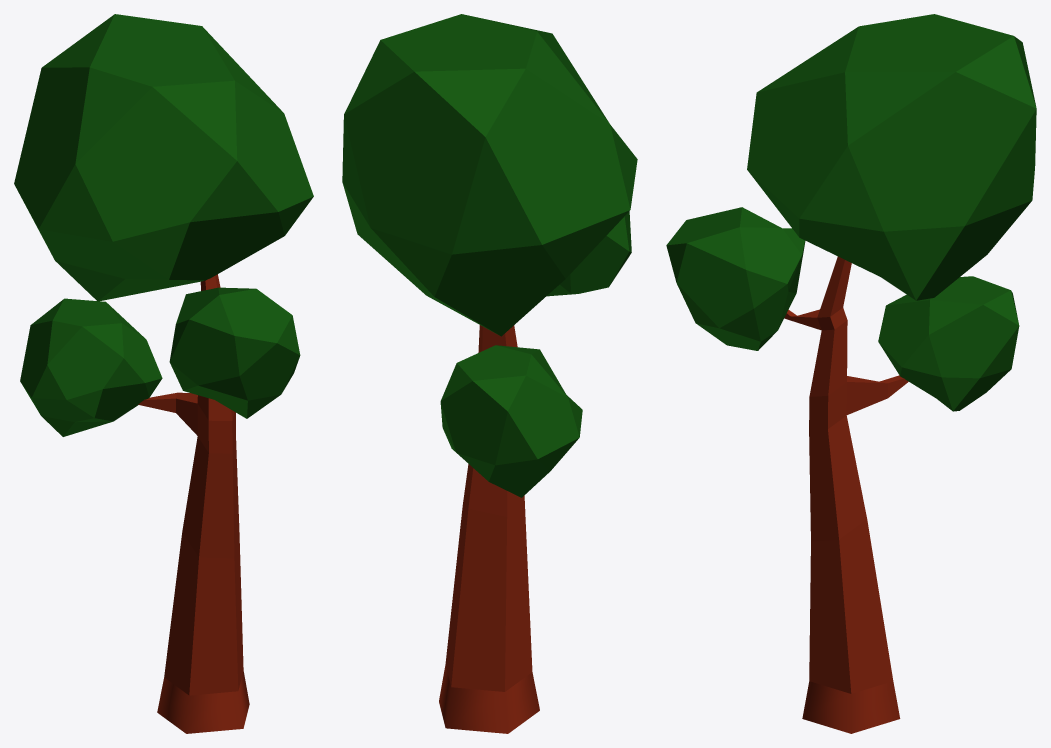
The model's file is Tree3.FBX.
3 renders of one model, left to right at view 1: azimuth 30°, elevation 25°; view 2: azimuth 150°, elevation 25°; view 3: azimuth 270°, elevation 25°, orthographic. The views are drawn at different scales.
Visible parts, largest first — view 1: Hedra006, Cylinder003, Hedra004, Hedra005; view 2: Hedra006, Cylinder003, Hedra004, Hedra005; view 3: Hedra006, Cylinder003, Hedra005, Hedra004.
Boxes of the visible parts, bbox=[...] form: Hedra006: bbox=[14, 14, 313, 301]; Cylinder003: bbox=[138, 274, 249, 733]; Hedra004: bbox=[20, 298, 162, 436]; Hedra005: bbox=[169, 287, 300, 418]; Hedra006: bbox=[342, 14, 637, 336]; Cylinder003: bbox=[439, 325, 539, 733]; Hedra004: bbox=[440, 345, 582, 497]; Hedra005: bbox=[547, 211, 631, 296]; Hedra006: bbox=[747, 14, 1036, 300]; Cylinder003: bbox=[784, 256, 908, 733]; Hedra005: bbox=[666, 207, 805, 350]; Hedra004: bbox=[878, 276, 1019, 411].
Bounding box in the file's own units: 570 × 1435 × 719.
